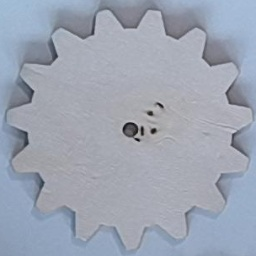Points: (155, 101, 166, 110), (149, 127, 158, 135), (139, 125, 145, 136), (146, 109, 154, 117), (134, 137, 140, 143)
